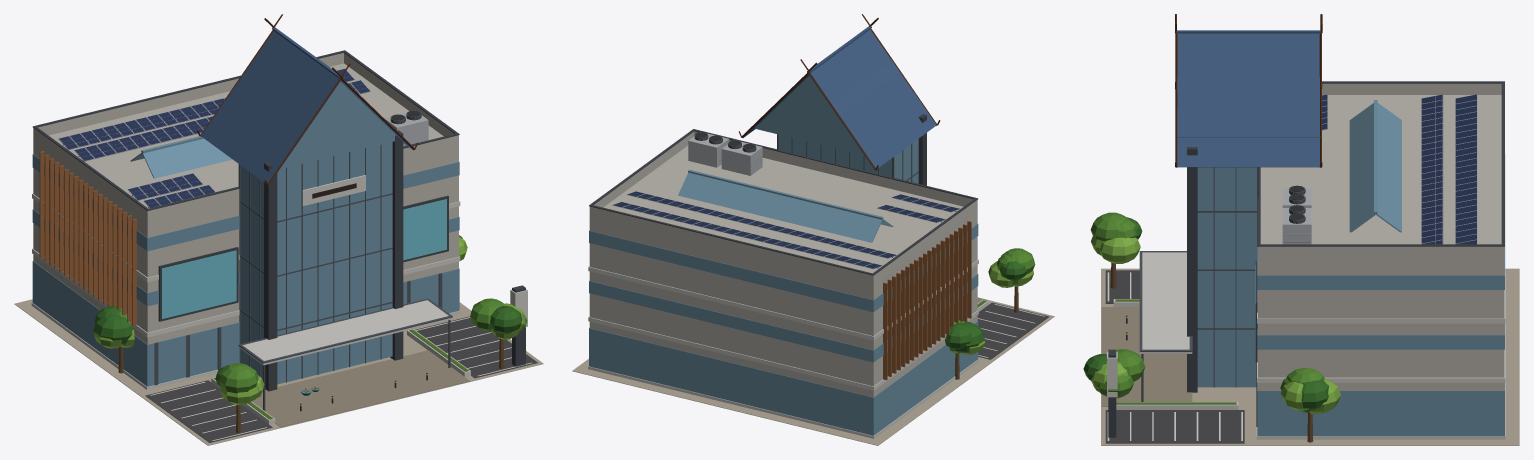
File: shop_5.glb
The picture shows the model from 3 angles, left to right: view 1: azimuth 30°, elevation 25°; view 2: azimuth 150°, elevation 25°; view 3: azimuth 270°, elevation 25°; orthographic projection. The views are drawn at different scales.
Parts seen in each view (by area): view 1: body, windows; view 2: body; view 3: body.
Part boxes in pixels (x1,y1,x2,y2): body: (14,14,543,445); windows: (161,199,446,405); body: (572,14,1054,445); body: (1083,14,1519,445).
Size of the model in its own units: 34.82 by 28.57 by 33.25.
